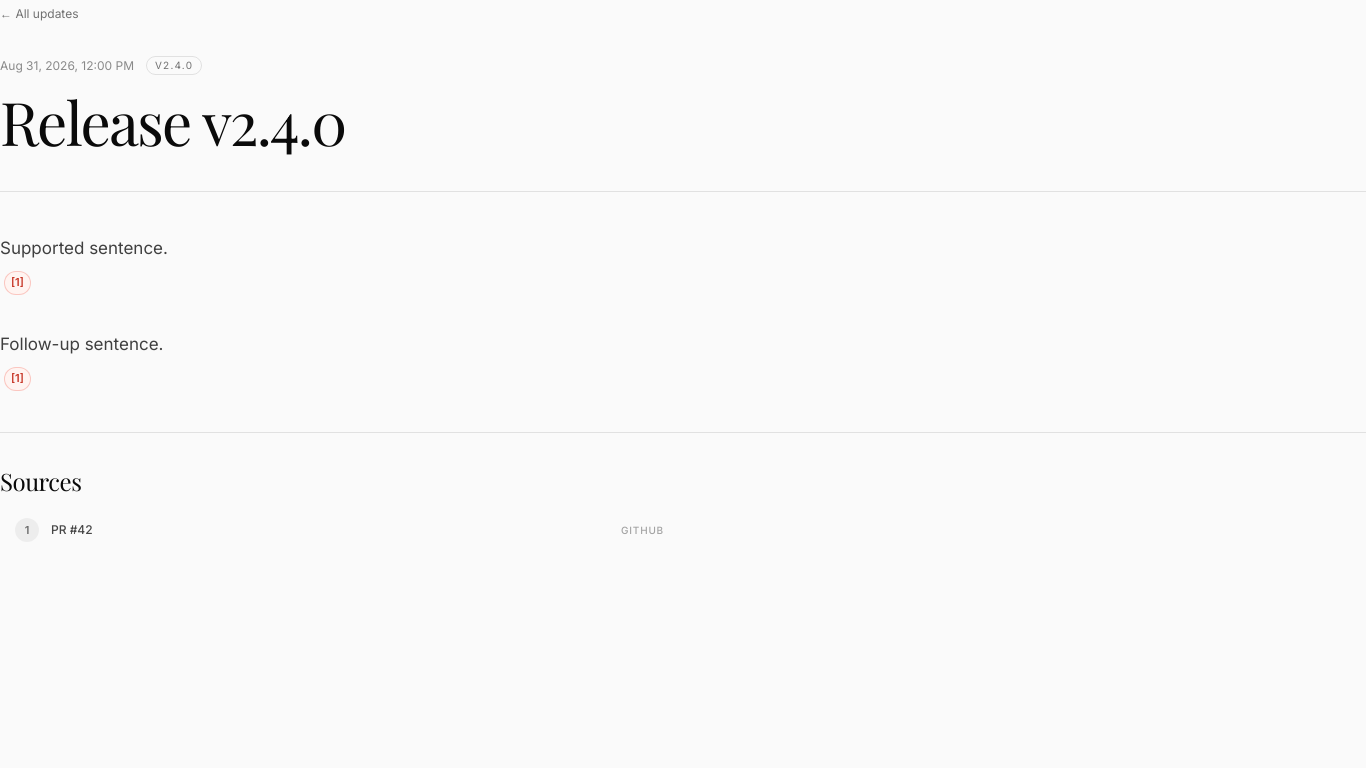
PublicChangelogEntryView › renders sentence citations with a focusable popover and deduplicated sources
Expected: the text "Supported sentence." is shown, x1=0 y1=238 x2=168 y2=258
Expected: the text "Follow-up sentence." is shown, x1=0 y1=334 x2=164 y2=354
Focus the button named "Show citation" at x=17, y=283, box x1=4 y1=271 x2=31 y2=295
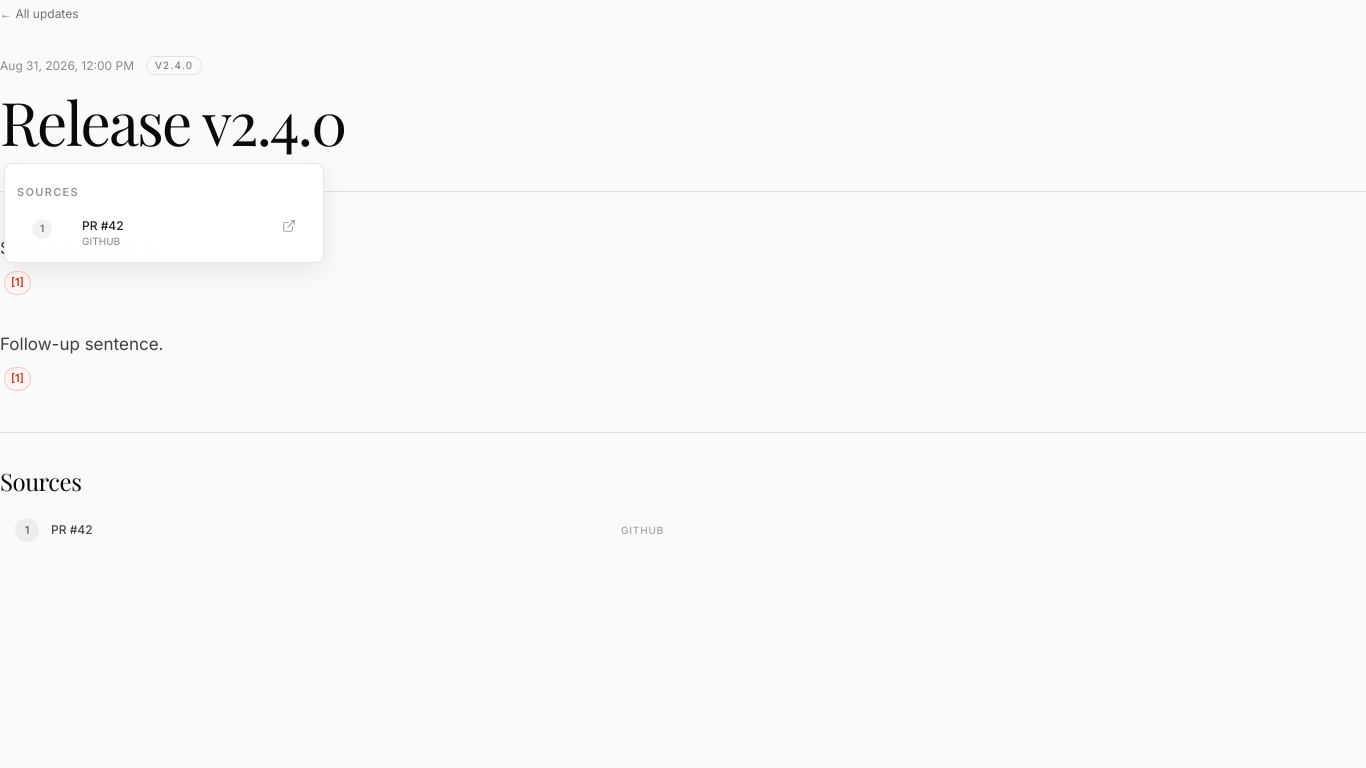
Expected: the dialog named "Citation sources" is shown, x1=4 y1=163 x2=324 y2=263
Expected: the dialog named "Citation sources" shows "PR #42", x1=17 y1=216 x2=311 y2=250
